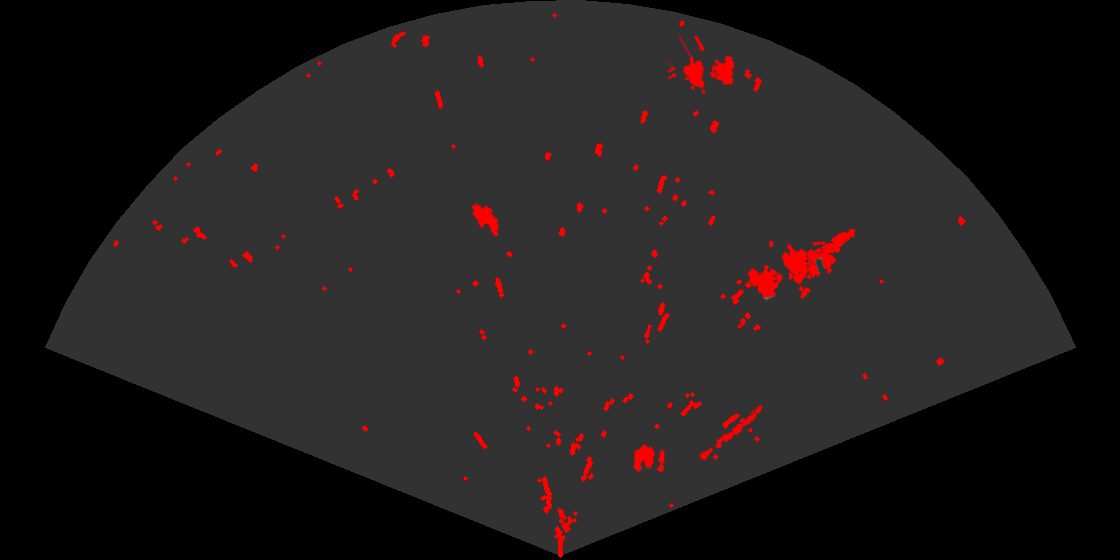AUV: (470, 202, 501, 238)
ball: (632, 443, 666, 474)
cage: (746, 241, 825, 301), (668, 36, 736, 96)
chain: (694, 403, 764, 466)
frogman: (789, 227, 857, 281)
